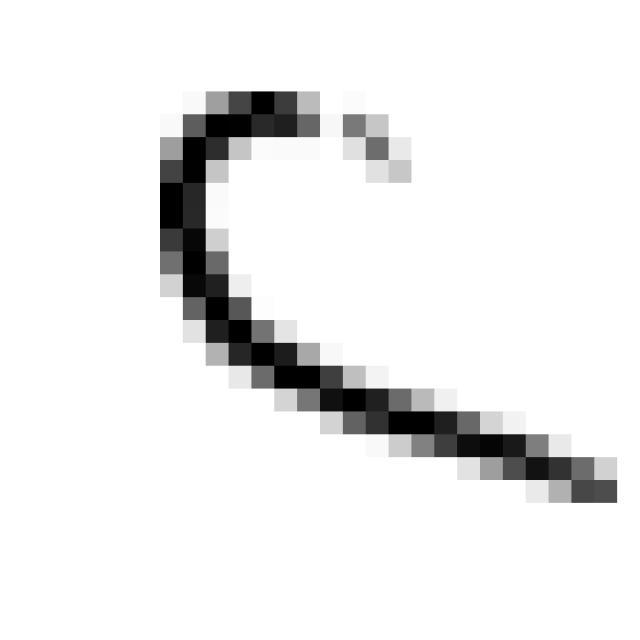2 -two-: (135, 62, 635, 531)
